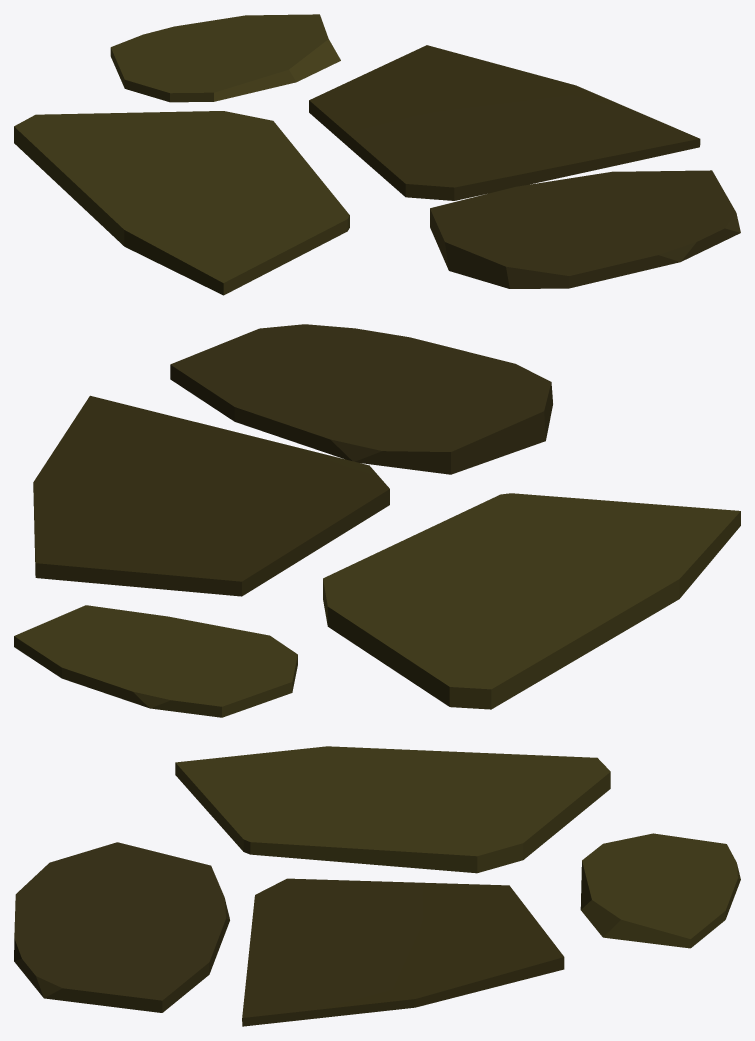
Rendered from Broken Tile Set  (2.5m).fbx.
3 views of the same model, one above another, from view 1: azimuth 30°, elevation 25°; view 2: azimuth 150°, elevation 25°; view 3: azimuth 270°, elevation 25° (orthographic). The views are drawn at different scales.
Parts seen in each view (by area): view 1: Broken Tile Set (2.5m); view 2: Broken Tile Set (2.5m); view 3: Broken Tile Set (2.5m).
Boxes of the visible parts, left/top/right/bottom form: Broken Tile Set (2.5m): left=14, top=14, right=740, bottom=295; Broken Tile Set (2.5m): left=14, top=324, right=740, bottom=717; Broken Tile Set (2.5m): left=14, top=746, right=740, bottom=1026.
Bounding box in the file's own units: 201 × 10 × 234.
